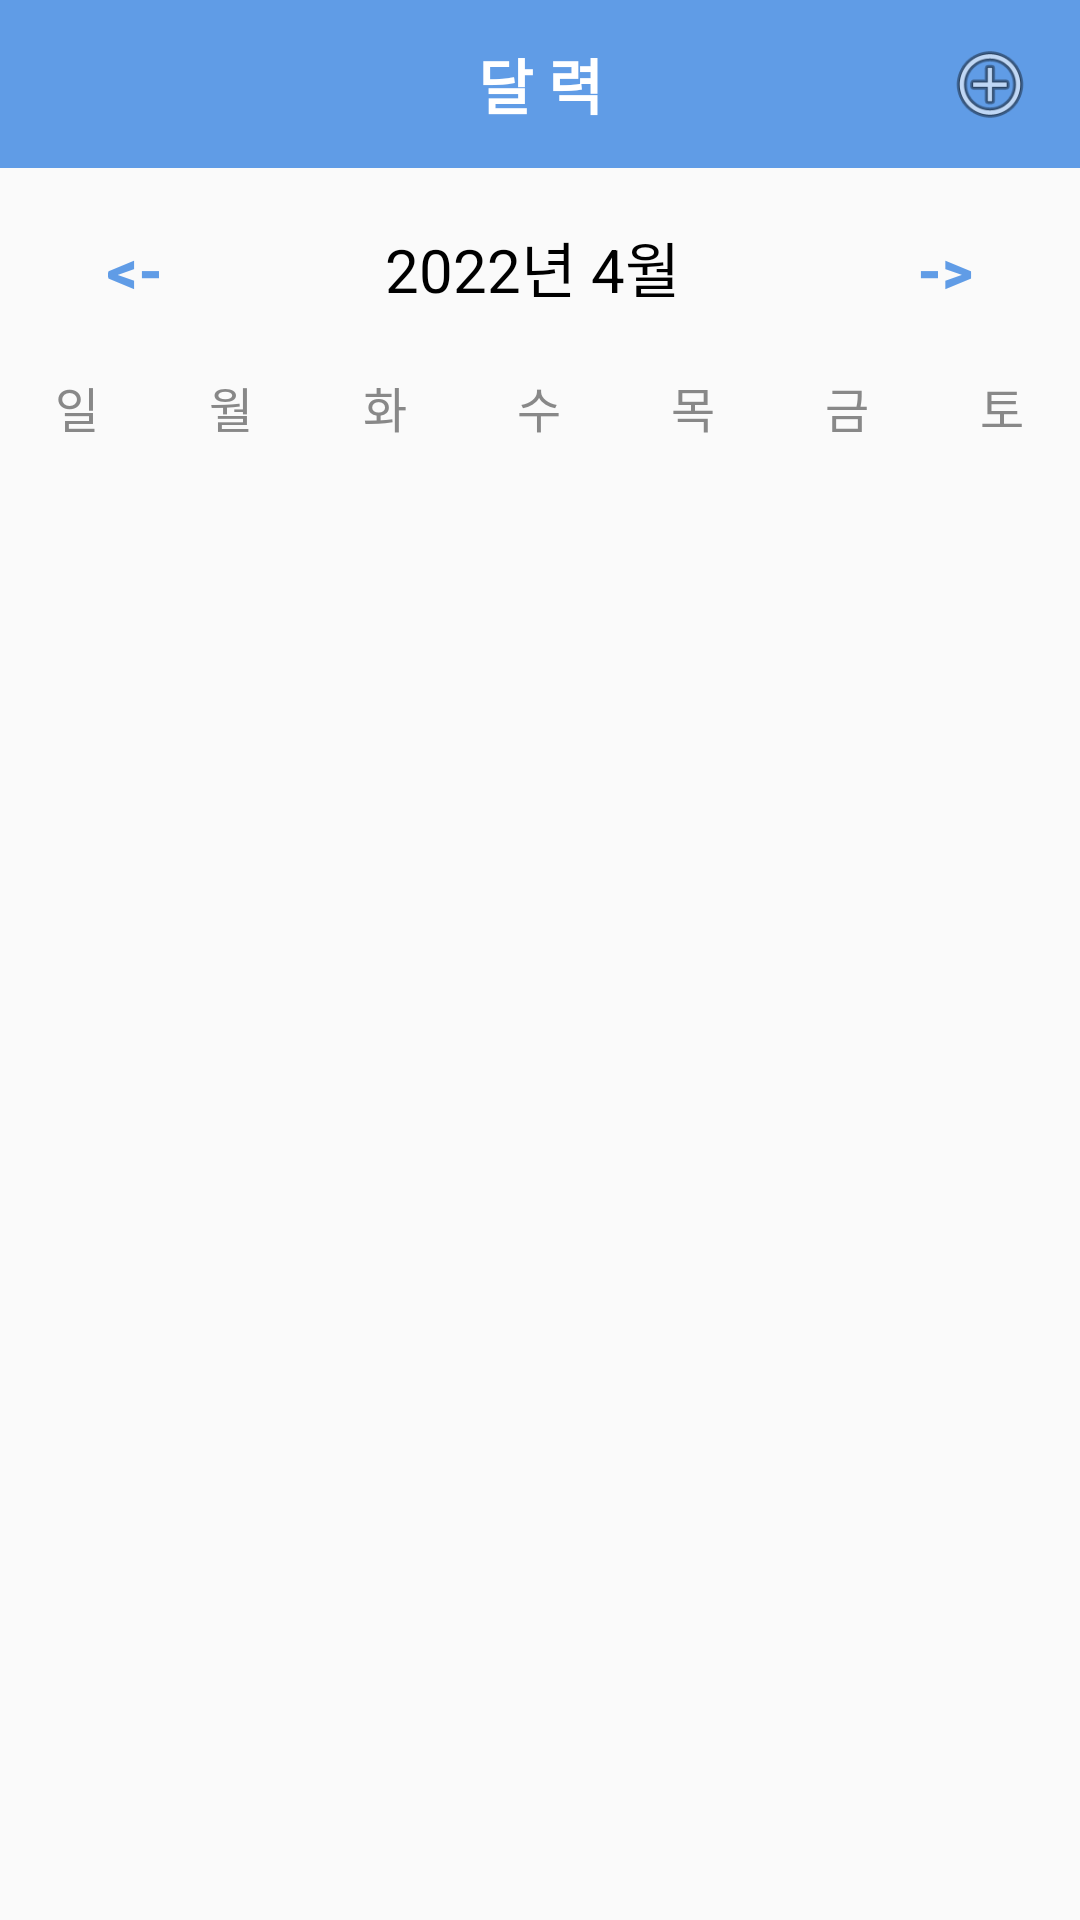

Screen size 1080px×1920px. Icon name, then its center in pixels as point (x, y):
add: point (990, 84)
